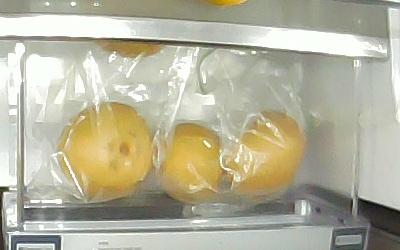pear_vinyl: (55, 102, 151, 201), (229, 111, 305, 198), (155, 123, 225, 204), (95, 39, 168, 60)
